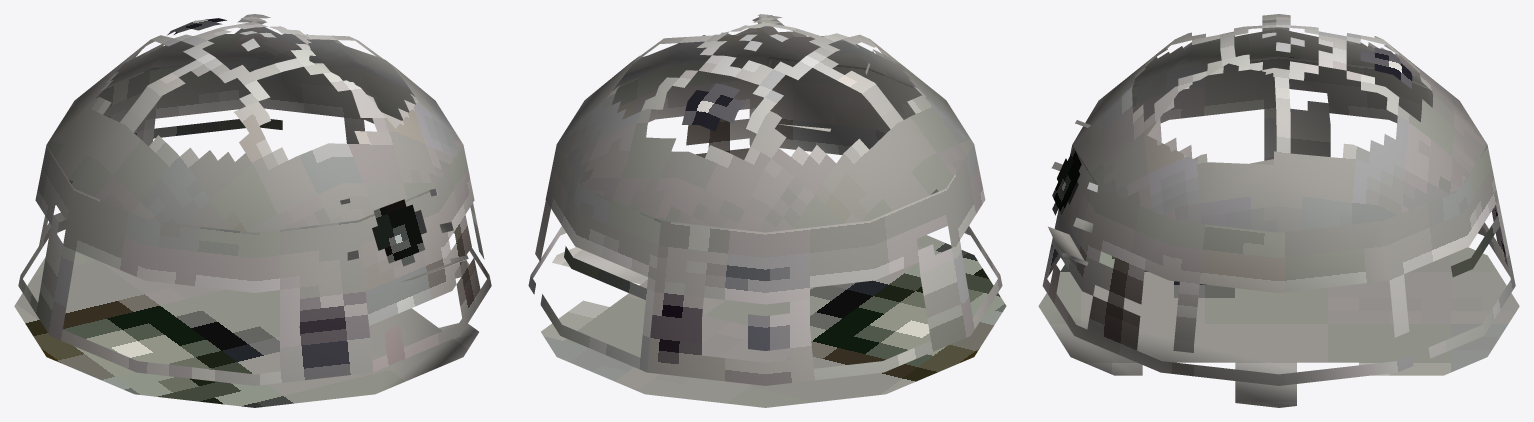
Rendered from poi_r2_head_l2.fbx.
3 renders of one model, left to right at view 1: azimuth 30°, elevation 25°; view 2: azimuth 150°, elevation 25°; view 3: azimuth 270°, elevation 25°, orthographic.
Visible parts, largest first — view 1: mesh_node; view 2: mesh_node; view 3: mesh_node.
Boxes of the visible parts, bbox=[...] form: mesh_node: bbox=[14, 14, 491, 407]; mesh_node: bbox=[528, 14, 1006, 407]; mesh_node: bbox=[1038, 14, 1519, 407].
Bounding box in the file's own units: 0.4237 × 0.2627 × 0.4265.
